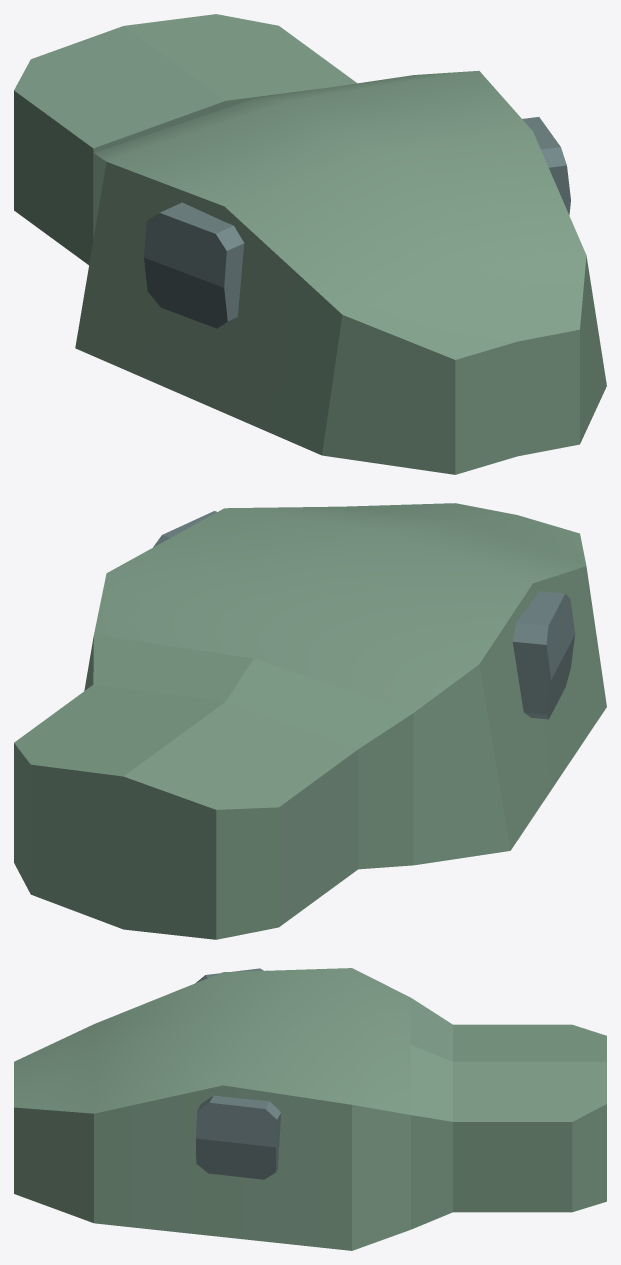
Rendered from smSnekHead.fbx.
The picture shows the model from 3 angles, top to bottom: view 1: azimuth 30°, elevation 25°; view 2: azimuth 150°, elevation 25°; view 3: azimuth 270°, elevation 25°; orthographic projection. The views are drawn at different scales.
Visible parts, largest first — view 1: smSnekHead; view 2: smSnekHead; view 3: smSnekHead.
Boxes of the visible parts, <box> form: smSnekHead: <box>14,14,606,474</box>; smSnekHead: <box>14,503,606,939</box>; smSnekHead: <box>14,968,606,1250</box>.
Bounding box in the file's own units: 34.58 × 16.85 × 54.22.
